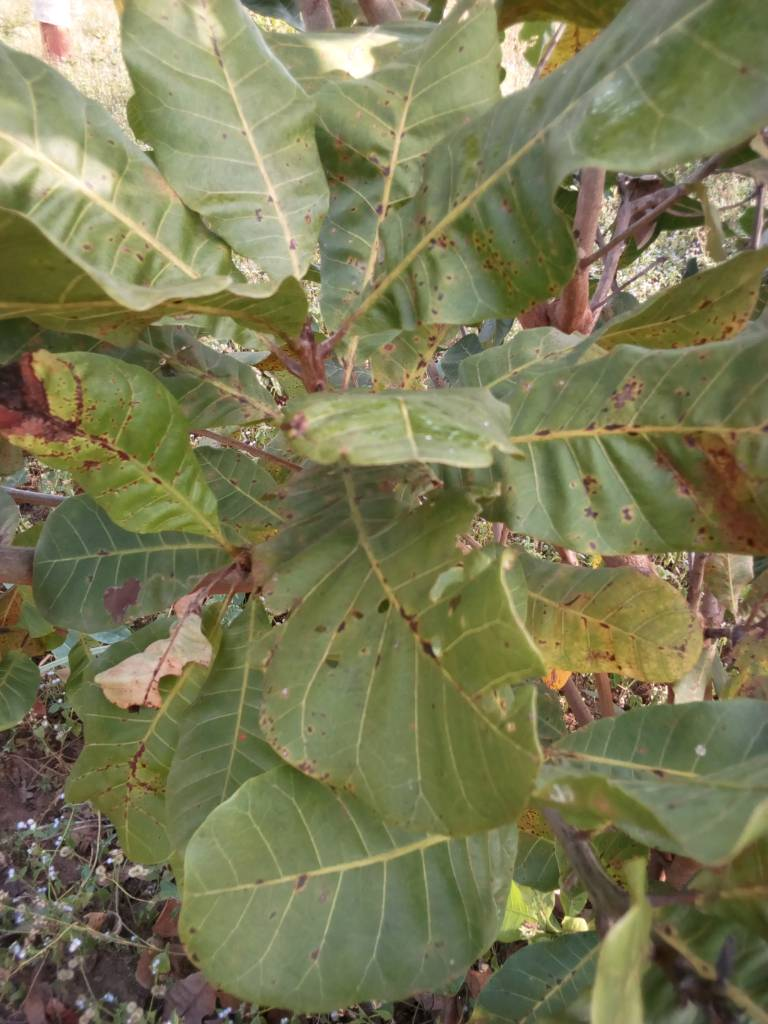Anthracnose: (321, 1, 758, 332), (110, 1, 329, 278)
